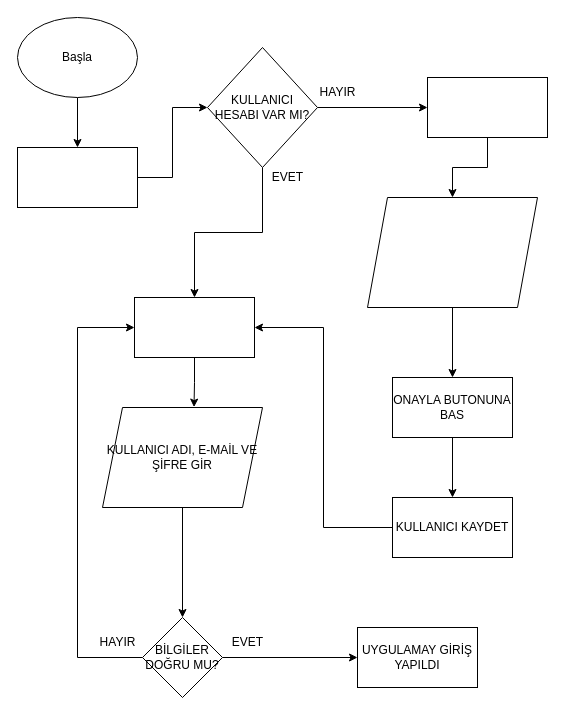
This 565x715 diagram has some shape labels left out. The shapes that lost their labels are listed below. From the top down, each one's centre as x and y in pixels, then its label:
At (x=487, y=107): "KAYIT OL BUTANUNA BAS".
At (x=77, y=177): "UYGULAMAY GİR".
At (x=452, y=252): "TELEFON NUMARASI,E-MAİL,İSİM VE SOYİSİM, ŞİFRE BİLGİLERİNİ GİR".
At (x=194, y=327): "GİRİŞ YAP".
